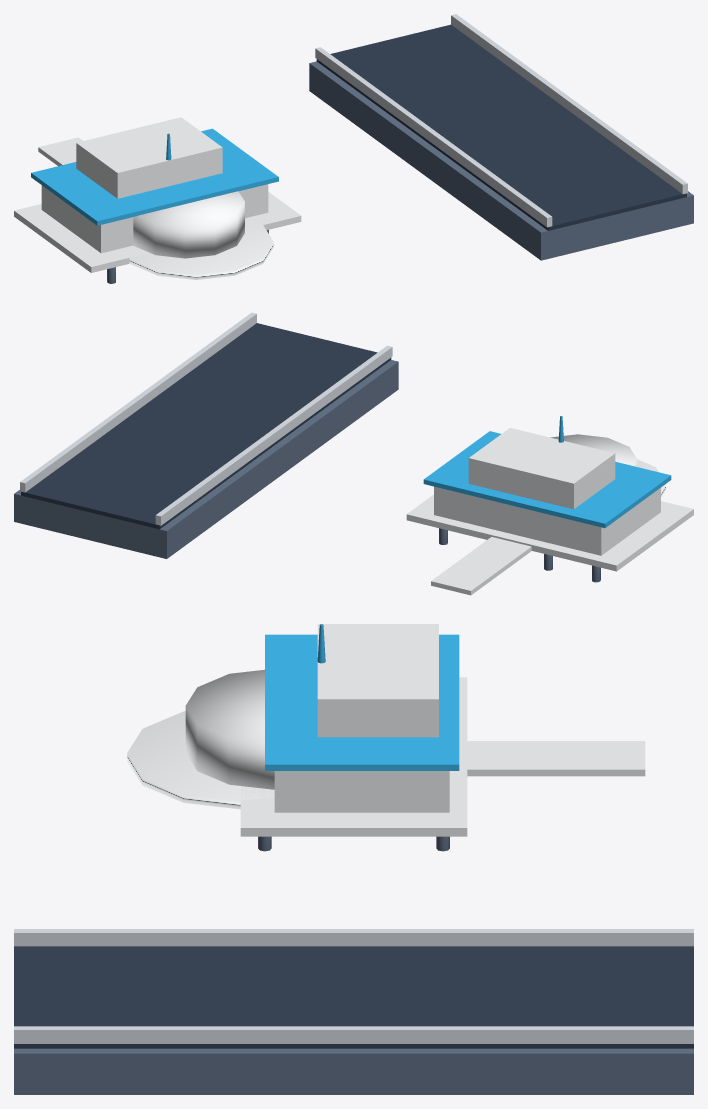
File: lm_06_thuy_ta_cau_ong_dao_base.glb
3 renders of one model, top to bottom at view 1: azimuth 30°, elevation 25°; view 2: azimuth 150°, elevation 25°; view 3: azimuth 270°, elevation 25°, orthographic. The views are drawn at different scales.
Visible parts, largest first — view 1: cau_ong_dao_roadway, cau_ong_dao_embankment, thuy_ta_cabin_2, thuy_ta_deck_2, thuy_ta_cabin_bow, thuy_ta_deck_1, thuy_ta_bow_1, cau_ong_dao_balustrade_w, cau_ong_dao_balustrade_e, thuy_ta_cabin_1, thuy_ta_walkway; view 2: cau_ong_dao_roadway, cau_ong_dao_embankment, thuy_ta_cabin_2, thuy_ta_cabin_1, thuy_ta_deck_2, thuy_ta_deck_1, cau_ong_dao_balustrade_w, cau_ong_dao_balustrade_e, thuy_ta_walkway, thuy_ta_cabin_bow; view 3: cau_ong_dao_roadway, cau_ong_dao_embankment, thuy_ta_deck_2, thuy_ta_cabin_2, cau_ong_dao_balustrade_w, cau_ong_dao_balustrade_e, thuy_ta_cabin_bow, thuy_ta_deck_1, thuy_ta_cabin_1, thuy_ta_walkway, thuy_ta_bow_1.
Part boxes in pixels (x1,y1,x2,y2): cau_ong_dao_roadway: [316, 24, 686, 230]; cau_ong_dao_embankment: [309, 61, 693, 260]; thuy_ta_cabin_2: [76, 117, 222, 198]; thuy_ta_deck_2: [31, 128, 278, 225]; thuy_ta_cabin_bow: [133, 191, 244, 258]; thuy_ta_deck_1: [14, 192, 301, 272]; thuy_ta_bow_1: [129, 218, 273, 279]; cau_ong_dao_balustrade_w: [315, 47, 552, 227]; cau_ong_dao_balustrade_e: [451, 14, 687, 194]; thuy_ta_cabin_1: [41, 184, 268, 253]; thuy_ta_walkway: [38, 137, 82, 166]; cau_ong_dao_roadway: [21, 323, 391, 529]; cau_ong_dao_embankment: [14, 360, 398, 558]; thuy_ta_cabin_2: [468, 428, 615, 509]; thuy_ta_cabin_1: [434, 486, 660, 555]; thuy_ta_deck_2: [423, 431, 671, 527]; thuy_ta_deck_1: [406, 494, 693, 571]; cau_ong_dao_balustrade_w: [155, 345, 392, 525]; cau_ong_dao_balustrade_e: [20, 312, 256, 492]; thuy_ta_walkway: [431, 537, 531, 595]; thuy_ta_cabin_bow: [550, 434, 637, 466]; cau_ong_dao_roadway: [14, 946, 693, 1048]; cau_ong_dao_embankment: [14, 1048, 693, 1094]; thuy_ta_deck_2: [265, 634, 459, 770]; thuy_ta_cabin_2: [317, 624, 438, 737]; cau_ong_dao_balustrade_w: [14, 929, 693, 946]; cau_ong_dao_balustrade_e: [14, 1026, 693, 1043]; thuy_ta_cabin_bow: [185, 669, 274, 789]; thuy_ta_deck_1: [240, 677, 467, 836]; thuy_ta_cabin_1: [274, 771, 449, 812]; thuy_ta_walkway: [467, 741, 645, 776]; thuy_ta_bow_1: [127, 711, 274, 809].
Bounding box in the file's own units: 55 × 11.5 × 42.
